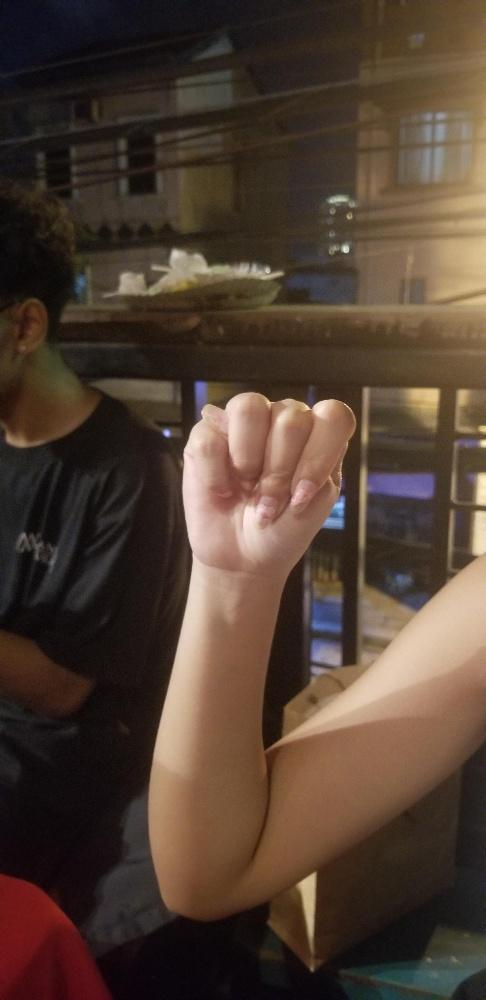m: (177, 387, 361, 580)
